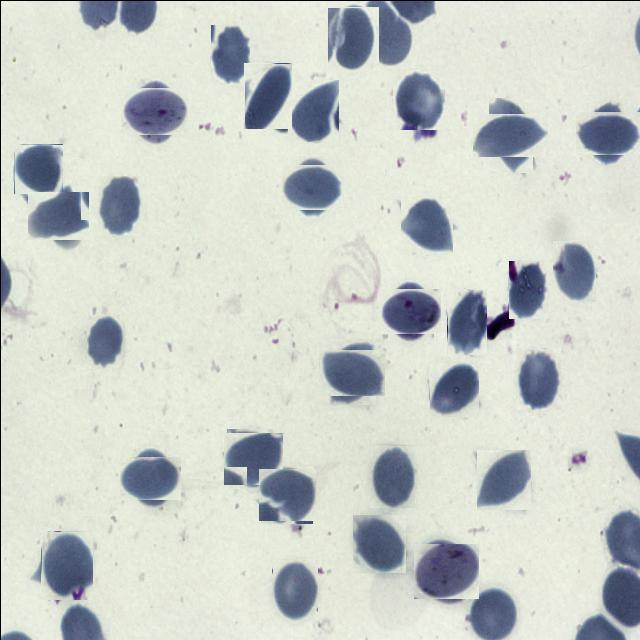red blood cell: (480, 104, 540, 164), (40, 530, 92, 599), (326, 6, 378, 70), (476, 449, 530, 509), (243, 62, 291, 128), (287, 79, 338, 141), (224, 430, 280, 486), (392, 69, 444, 129), (259, 466, 314, 522), (30, 187, 85, 243), (352, 514, 405, 572), (324, 344, 379, 399), (400, 197, 452, 254), (369, 443, 414, 508), (581, 106, 635, 160), (285, 160, 339, 213), (271, 558, 317, 620), (515, 347, 560, 409), (428, 361, 478, 416), (551, 239, 595, 301), (124, 452, 176, 504), (96, 174, 140, 235), (446, 288, 486, 354), (12, 144, 62, 194), (210, 24, 249, 84), (508, 260, 546, 318), (86, 314, 124, 368)
ring: (415, 540, 476, 602), (125, 82, 183, 140), (384, 284, 436, 336)
